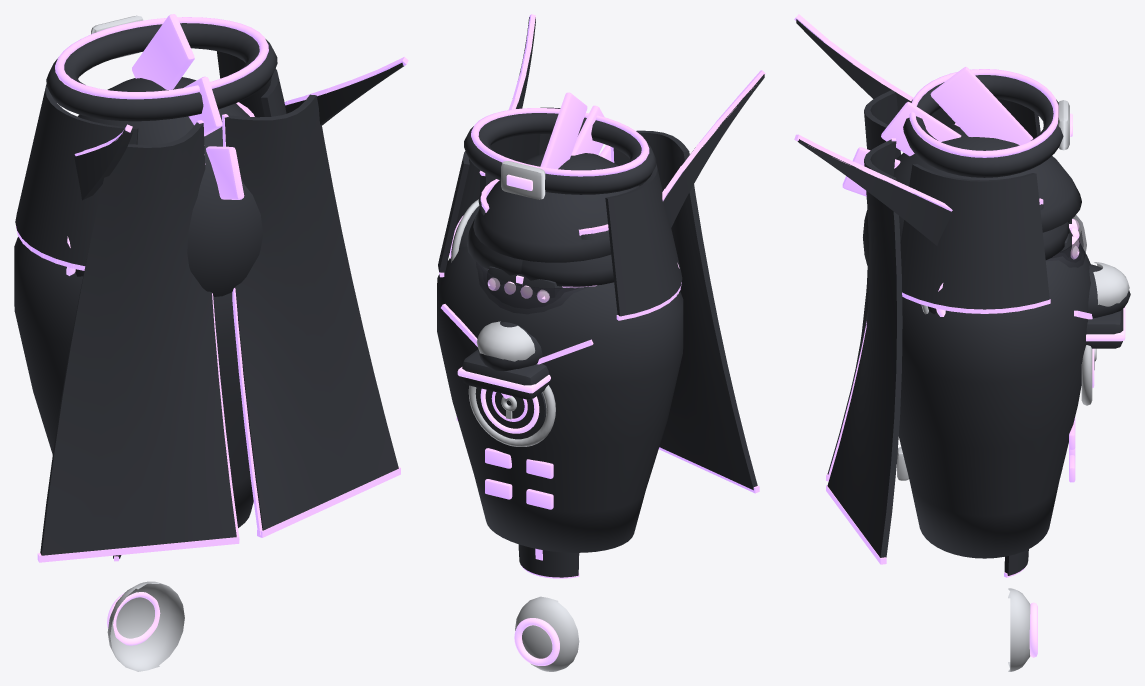
File: mc_suit.glb
3 views of the same model, side by side, from view 1: azimuth 30°, elevation 25°; view 2: azimuth 150°, elevation 25°; view 3: azimuth 270°, elevation 25° (orthographic). The views are drawn at different scales.
Visible parts, largest first — view 1: FAULD, HELMET, MANTLE, CUISSE_L, CUISSE_R; view 2: MANTLE, FAULD, HELMET, BOOT_L, CUISSE_L, CUISSE_R, PLATTER, BOOT_R, PAULDRON_L, GAUNTLET_L, PAULDRON_R; view 3: FAULD, MANTLE, HELMET, BOOT_L, CUISSE_L, BOOT_R, CUISSE_R, PAULDRON_R.
Part boxes in pixels (<box>): FAULD: <box>15,15,400,562</box>; HELMET: <box>66,14,408,296</box>; MANTLE: <box>14,102,254,527</box>; CUISSE_L: <box>107,555,184,671</box>; CUISSE_R: <box>107,555,184,670</box>; MANTLE: <box>437,179,683,552</box>; FAULD: <box>438,107,759,493</box>; HELMET: <box>450,14,765,313</box>; BOOT_L: <box>457,321,550,399</box>; CUISSE_L: <box>514,544,579,671</box>; CUISSE_R: <box>515,545,579,671</box>; PLATTER: <box>475,387,546,439</box>; BOOT_R: <box>459,322,550,399</box>; PAULDRON_L: <box>521,254,613,287</box>; GAUNTLET_L: <box>487,266,562,302</box>; PAULDRON_R: <box>467,215,522,275</box>; FAULD: <box>826,69,1072,564</box>; MANTLE: <box>897,198,1092,558</box>; HELMET: <box>794,14,1086,316</box>; BOOT_L: <box>1086,262,1130,348</box>; CUISSE_L: <box>1004,549,1037,671</box>; BOOT_R: <box>1086,263,1129,348</box>; CUISSE_R: <box>1004,549,1037,670</box>; PAULDRON_R: <box>1043,221,1069,259</box>.
Size of the model in its own units: 0.3492 by 0.6217 by 0.3153.
